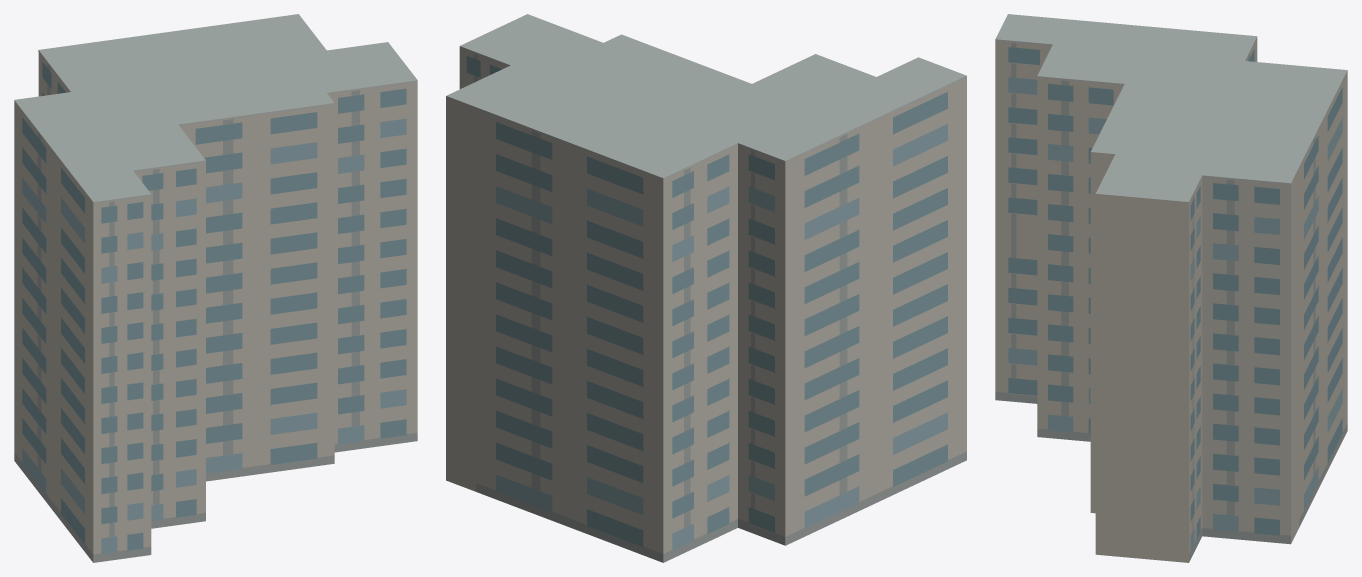
File: residential-569de31d-bd9e-48ad-9e42-ff8a10b26ab1.glb
3 renders of one model, left to right at view 1: azimuth 30°, elevation 25°; view 2: azimuth 150°, elevation 25°; view 3: azimuth 270°, elevation 25°, orthographic. The views are drawn at different scales.
Parts seen in each view (by area): view 1: residential-569de31d-bd9e-48ad-9e42-ff8a10b26ab1.tmp; view 2: residential-569de31d-bd9e-48ad-9e42-ff8a10b26ab1.tmp; view 3: residential-569de31d-bd9e-48ad-9e42-ff8a10b26ab1.tmp.
Boxes of the visible parts, bbox=[...] form: residential-569de31d-bd9e-48ad-9e42-ff8a10b26ab1.tmp: bbox=[14, 14, 417, 562]; residential-569de31d-bd9e-48ad-9e42-ff8a10b26ab1.tmp: bbox=[446, 14, 966, 562]; residential-569de31d-bd9e-48ad-9e42-ff8a10b26ab1.tmp: bbox=[995, 14, 1347, 562].
Size of the model in its own units: 49.17 by 44 by 38.93.
